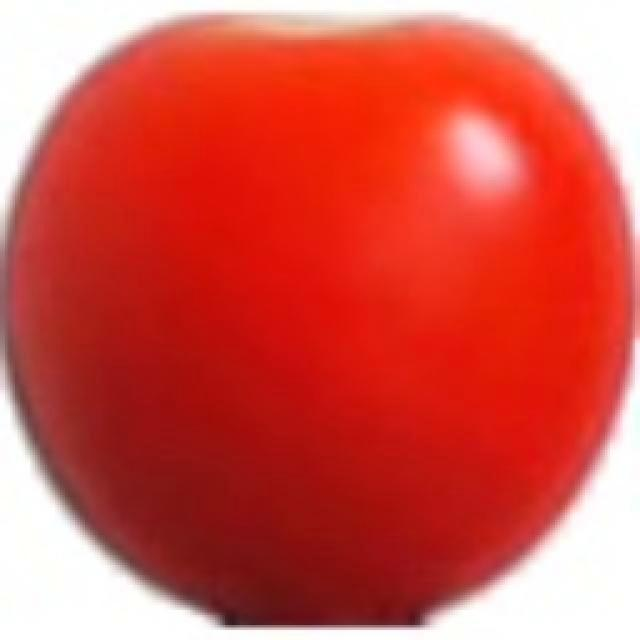tomato: (0, 14, 635, 630)
